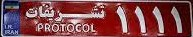character: (113, 4, 131, 36), (149, 4, 167, 35), (170, 3, 185, 34), (133, 4, 147, 36)
